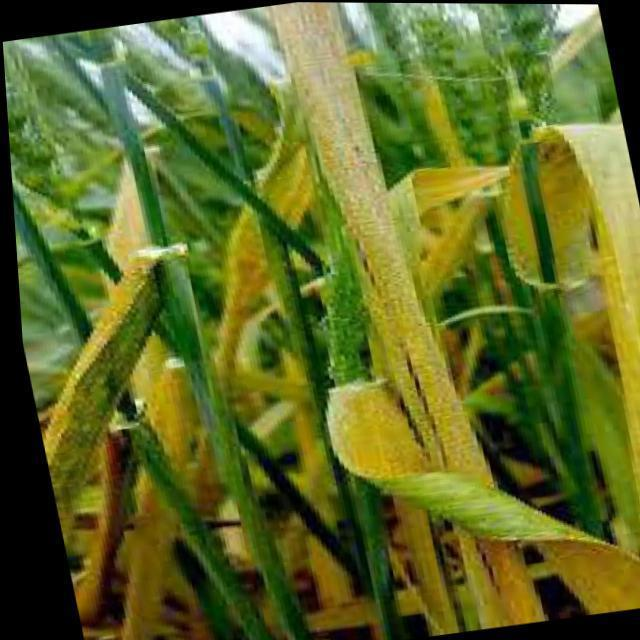Yellow Rust: (267, 1, 639, 614), (467, 541, 543, 625)
